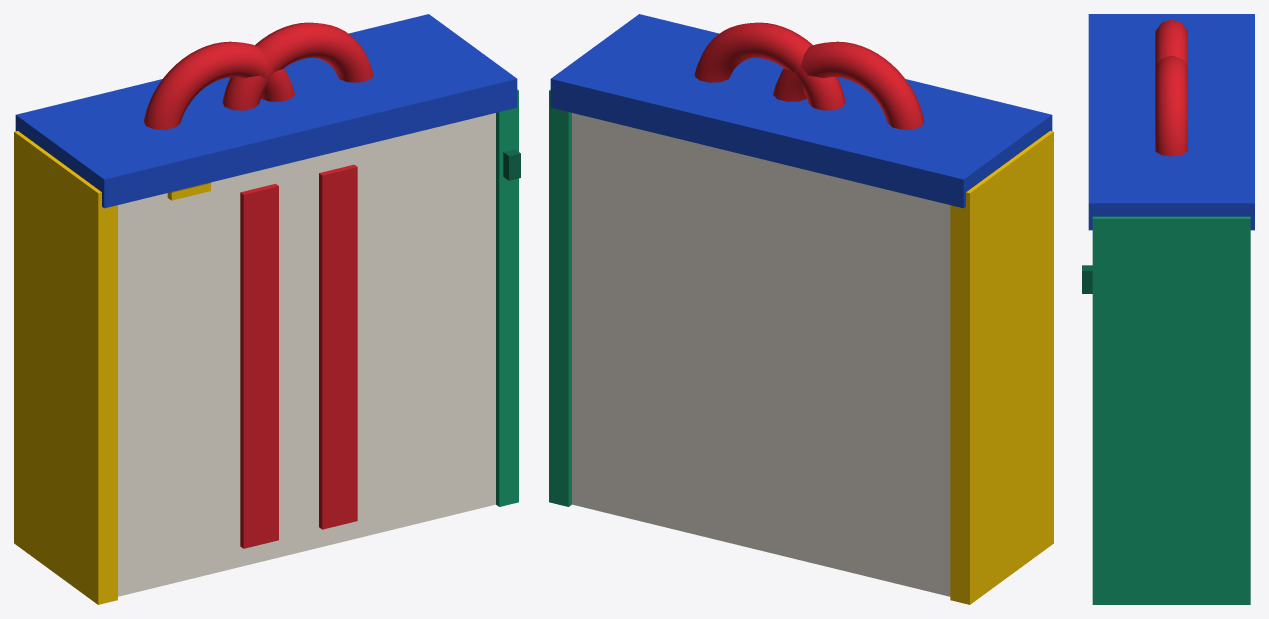
The model's file is lagi-bag.glb.
The picture shows the model from 3 angles, left to right: view 1: azimuth 30°, elevation 25°; view 2: azimuth 150°, elevation 25°; view 3: azimuth 270°, elevation 25°; orthographic projection. The views are drawn at different scales.
Visible parts, largest first — view 1: Body, EdgePiping_Yellow_Left, TopTrim_Blue, FrontStripe_Right, FrontStripe_Left, ZipperTrim_Green_Right, Handle_Red_Left, Handle_Red_Right; view 2: Body, EdgePiping_Yellow_Left, TopTrim_Blue, ZipperTrim_Green_Right, Handle_Red_Left, Handle_Red_Right; view 3: ZipperTrim_Green_Right, TopTrim_Blue, Handle_Red_Right, Handle_Red_Left, ZipperPull.
Boxes of the visible parts, x1,y1,x2,y2 form: Body: (118, 113, 495, 596); EdgePiping_Yellow_Left: (14, 131, 117, 604); TopTrim_Blue: (15, 14, 517, 208); FrontStripe_Right: (319, 164, 357, 529); FrontStripe_Left: (240, 183, 278, 548); ZipperTrim_Green_Right: (496, 89, 518, 506); Handle_Red_Left: (144, 41, 294, 129); Handle_Red_Right: (222, 22, 373, 110); Body: (572, 113, 950, 596); EdgePiping_Yellow_Left: (950, 131, 1053, 604); TopTrim_Blue: (550, 14, 1052, 208); ZipperTrim_Green_Right: (549, 89, 571, 506); Handle_Red_Left: (773, 41, 924, 129); Handle_Red_Right: (694, 22, 845, 110); ZipperTrim_Green_Right: (1092, 216, 1250, 604); TopTrim_Blue: (1088, 14, 1254, 230); Handle_Red_Right: (1155, 55, 1187, 156); Handle_Red_Left: (1155, 19, 1187, 66); ZipperPull: (1082, 265, 1092, 293).
Size of the model in its own units: 1.07 by 1.19 by 0.405.
